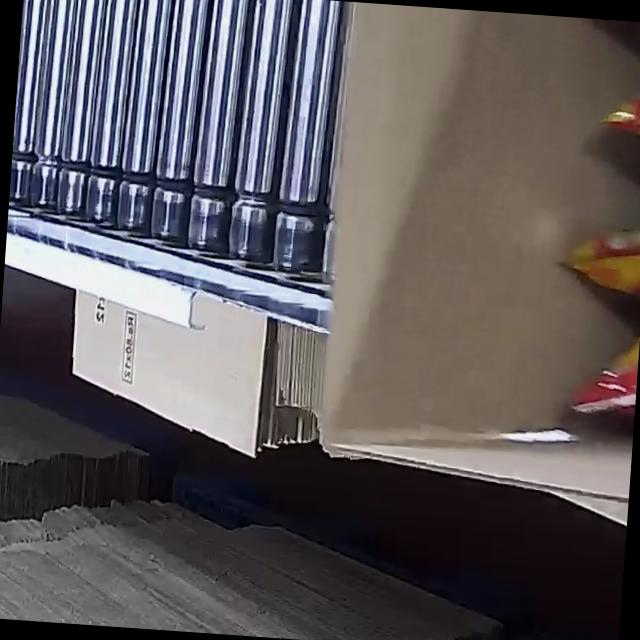masala: (530, 16, 640, 446)
